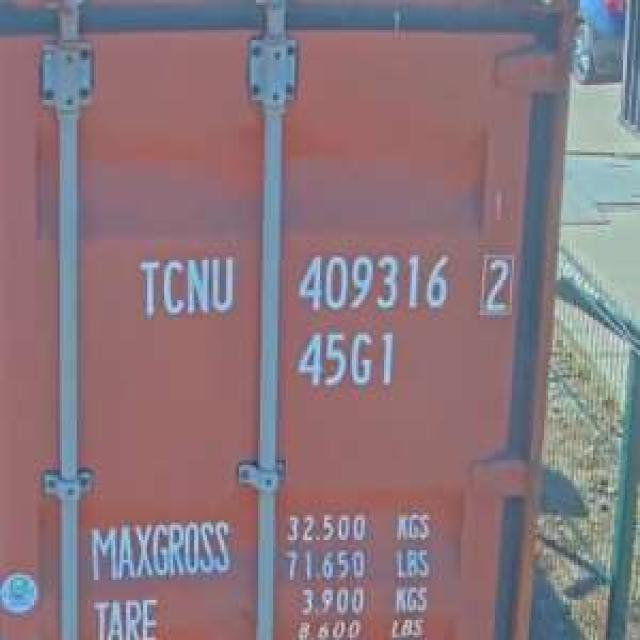dv: (475, 244, 521, 324)
owner: (130, 252, 244, 326)
serial: (290, 242, 459, 319)
size: (291, 324, 406, 399)
